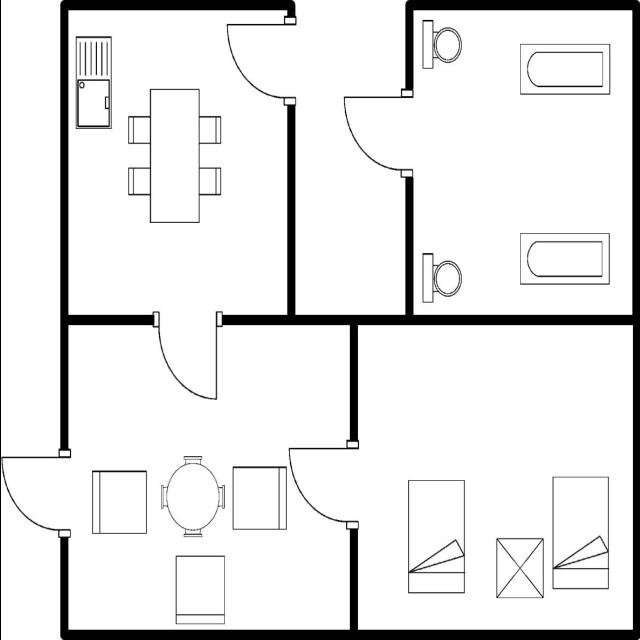bed: (548, 471, 614, 594), (402, 474, 468, 594)
coffee_table: (491, 530, 545, 604)
dining_table: (120, 78, 224, 230)
large_sink: (418, 246, 464, 306), (418, 16, 464, 74)
round_table: (155, 448, 226, 542)
sink: (72, 31, 114, 136)
small_sofa: (170, 548, 228, 626), (88, 465, 150, 537), (229, 460, 289, 534)
tub: (516, 227, 613, 289), (514, 38, 612, 98)
